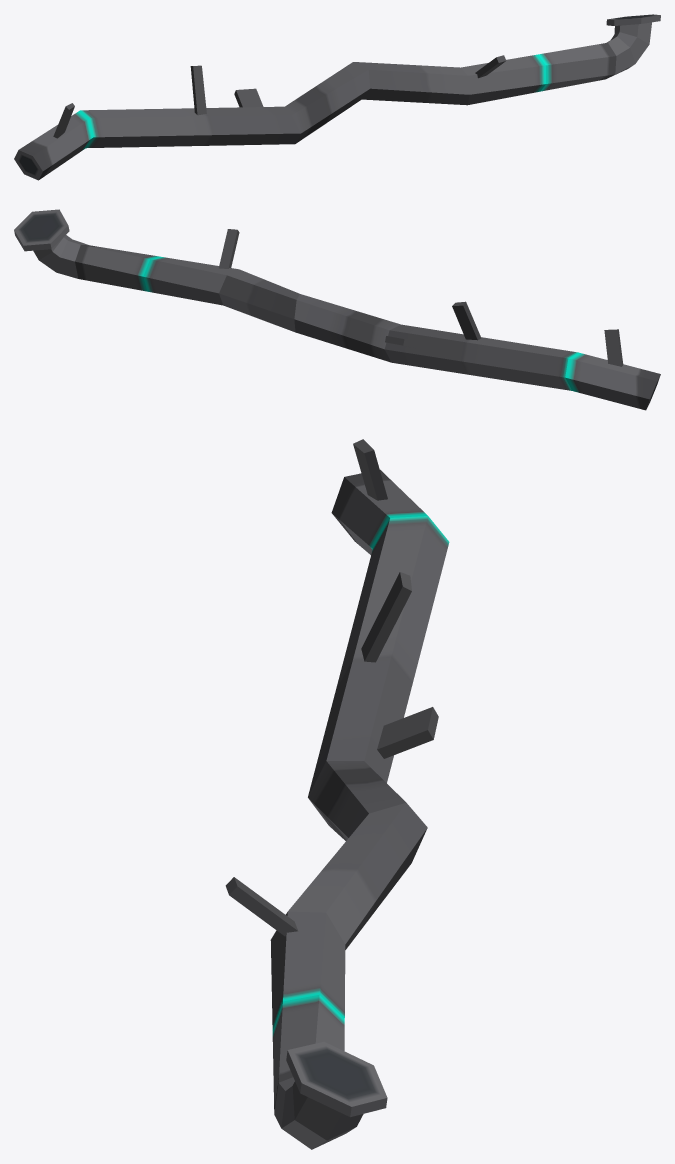
The model's file is SM_Prop_Junk_Pipe_01.fbx.
The picture shows the model from 3 angles, top to bottom: view 1: azimuth 30°, elevation 25°; view 2: azimuth 150°, elevation 25°; view 3: azimuth 270°, elevation 25°; orthographic projection. The views are drawn at different scales.
Visible parts, largest first — view 1: SM_Prop_Junk_Pipe_01; view 2: SM_Prop_Junk_Pipe_01; view 3: SM_Prop_Junk_Pipe_01.
Boxes of the visible parts, x1=… form: SM_Prop_Junk_Pipe_01: x1=14, y1=14, x2=660, y2=180; SM_Prop_Junk_Pipe_01: x1=14, y1=209, x2=660, y2=410; SM_Prop_Junk_Pipe_01: x1=225, y1=439, x2=449, y2=1149.
Bounding box in the file's own units: 652 × 90.2 × 101.
